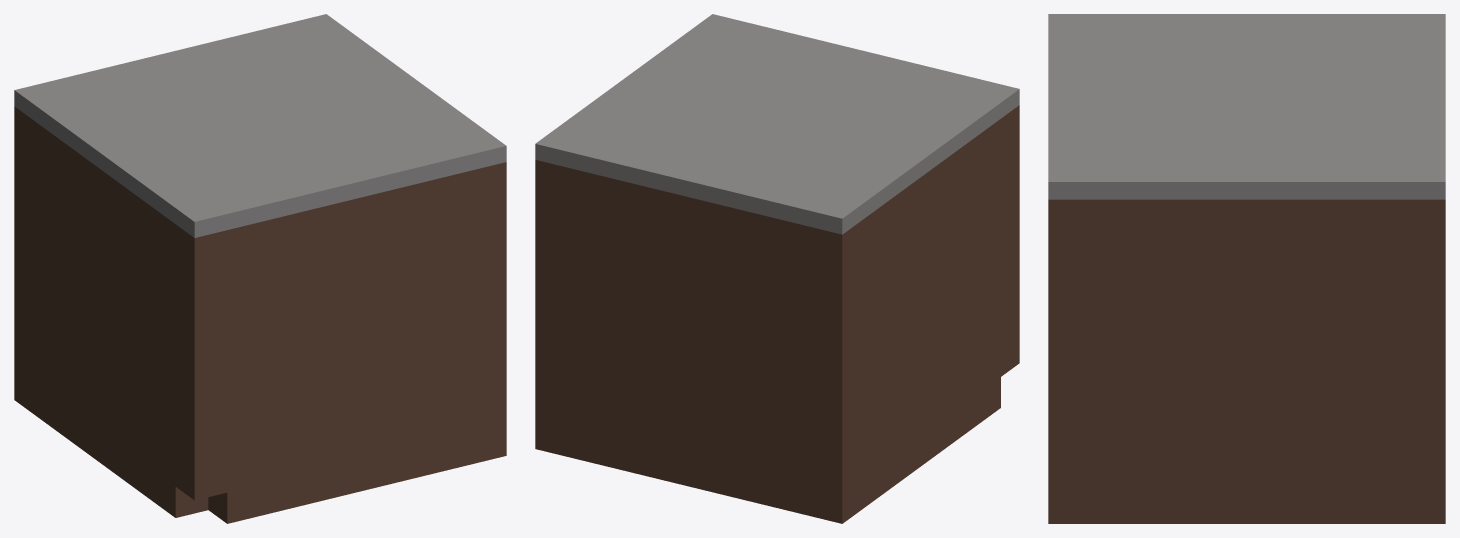
File: SM_Prop_Kitchen_CounterCorner_01.fbx
3 renders of one model, left to right at view 1: azimuth 30°, elevation 25°; view 2: azimuth 150°, elevation 25°; view 3: azimuth 270°, elevation 25°, orthographic. The views are drawn at different scales.
Parts seen in each view (by area): view 1: SM_Prop_Kitchen_CounterCorner_01; view 2: SM_Prop_Kitchen_CounterCorner_01; view 3: SM_Prop_Kitchen_CounterCorner_01.
Boxes of the visible parts, box(x1,y1,x2,y2) form: SM_Prop_Kitchen_CounterCorner_01: box(14, 14, 506, 523); SM_Prop_Kitchen_CounterCorner_01: box(535, 14, 1019, 523); SM_Prop_Kitchen_CounterCorner_01: box(1048, 14, 1445, 523).
Size of the model in its own units: 100 by 94.96 by 100.
